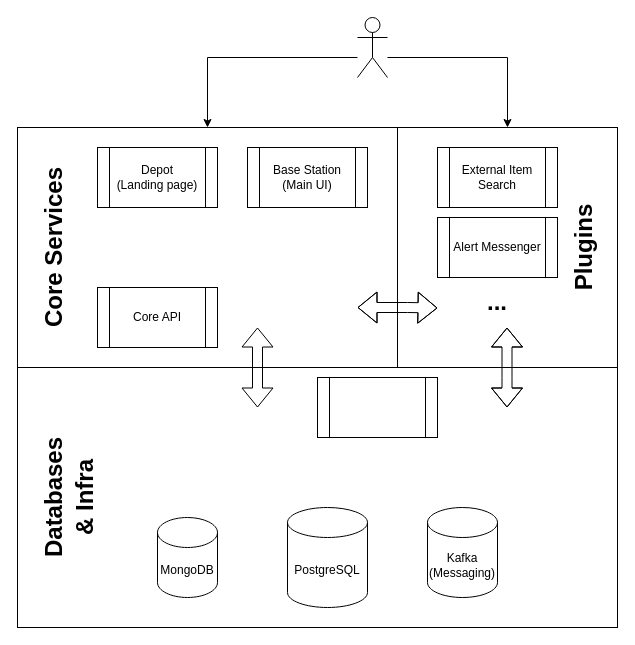
The diagram is 635 pixels wide and 645 high, and some of its shapes have lost their labels. The centre of each missing label's shape, as x and y in pixels:
"Actor" goes at [372,47].
"Keycloak (User Auth)" goes at [377,407].
